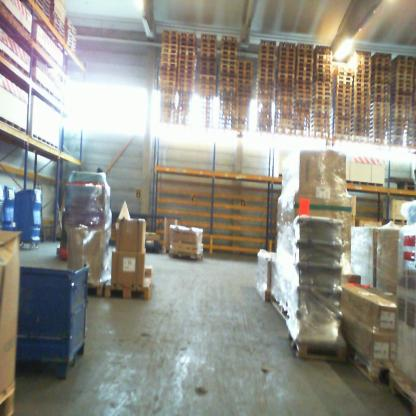pallet: (346, 342, 390, 388), (103, 278, 153, 300), (0, 380, 17, 416), (169, 248, 204, 263), (85, 278, 104, 298), (179, 37, 196, 48), (391, 59, 414, 67), (391, 54, 414, 62), (161, 53, 177, 64), (391, 126, 411, 134), (391, 82, 413, 89), (391, 69, 413, 76), (277, 95, 294, 104), (351, 125, 370, 133), (351, 117, 370, 125), (351, 112, 370, 120), (390, 117, 411, 124), (391, 108, 412, 115), (391, 99, 412, 106), (158, 84, 176, 92), (159, 70, 177, 78), (160, 61, 178, 69), (295, 70, 313, 78), (296, 42, 314, 50), (310, 118, 330, 125), (350, 135, 370, 142), (370, 133, 390, 140), (370, 120, 390, 127), (371, 88, 391, 95), (371, 79, 391, 86), (371, 74, 391, 81), (371, 52, 391, 59), (391, 122, 411, 129), (158, 116, 175, 124), (160, 75, 177, 83), (178, 59, 195, 67), (200, 84, 217, 92), (199, 79, 216, 87), (199, 74, 216, 82), (257, 93, 274, 101), (158, 81, 177, 88), (311, 131, 330, 138), (311, 122, 330, 129), (312, 104, 331, 111), (312, 94, 331, 101), (313, 81, 332, 88), (313, 72, 332, 79), (350, 130, 369, 137), (351, 108, 370, 115), (352, 77, 371, 84), (372, 57, 391, 64), (391, 135, 410, 142), (391, 95, 413, 101), (391, 91, 413, 97), (391, 87, 413, 93), (392, 65, 414, 71), (258, 80, 274, 88), (278, 72, 294, 80), (335, 96, 351, 104), (159, 66, 177, 73), (292, 116, 310, 123), (293, 107, 311, 114), (293, 102, 311, 109), (294, 98, 312, 105), (295, 66, 313, 73), (296, 57, 314, 64), (296, 48, 314, 55), (312, 99, 330, 106), (314, 59, 332, 66), (314, 54, 332, 61), (353, 81, 371, 88), (370, 129, 391, 135), (370, 111, 391, 117), (370, 107, 391, 113), (370, 102, 391, 108), (370, 93, 391, 99), (371, 70, 392, 76), (391, 113, 412, 119), (391, 104, 412, 110), (392, 78, 413, 84), (392, 74, 413, 80), (221, 76, 236, 84), (310, 127, 330, 133), (312, 90, 332, 96), (313, 77, 333, 83), (337, 83, 352, 91), (370, 138, 390, 144), (370, 125, 390, 131), (370, 116, 390, 122), (371, 98, 391, 104), (371, 84, 391, 90), (371, 66, 391, 72), (177, 82, 194, 89), (177, 78, 194, 85), (177, 72, 194, 79), (199, 70, 216, 77), (200, 42, 217, 49), (259, 58, 276, 65), (276, 118, 293, 125), (276, 104, 293, 111), (277, 91, 294, 98), (293, 121, 310, 128), (296, 61, 313, 68), (314, 45, 331, 52), (334, 133, 351, 140), (355, 68, 372, 75), (354, 50, 371, 57), (294, 89, 313, 95), (294, 84, 313, 90), (311, 113, 330, 119), (311, 109, 330, 115), (351, 122, 370, 128), (351, 104, 370, 110), (351, 99, 370, 105), (352, 95, 371, 101), (352, 91, 371, 97), (352, 86, 371, 92), (391, 132, 410, 138), (159, 112, 175, 119), (160, 108, 176, 115), (161, 102, 175, 110), (178, 68, 194, 75), (179, 54, 195, 61), (179, 50, 195, 57), (179, 46, 195, 53), (236, 92, 252, 99), (237, 69, 253, 76), (237, 60, 253, 67), (257, 98, 273, 105), (259, 76, 275, 83), (259, 72, 275, 79), (277, 100, 293, 107), (278, 87, 294, 94), (278, 82, 294, 89), (278, 77, 294, 84), (279, 60, 295, 67), (280, 46, 296, 53), (294, 125, 310, 132), (335, 119, 351, 126), (335, 101, 351, 108), (336, 92, 352, 99), (336, 88, 352, 95), (293, 112, 311, 118), (294, 94, 312, 100), (295, 75, 313, 81), (296, 53, 314, 59), (313, 86, 331, 92), (313, 68, 331, 74), (313, 63, 331, 69), (353, 73, 371, 79), (354, 64, 372, 70), (354, 55, 372, 61), (391, 140, 409, 146), (160, 94, 175, 101), (178, 91, 193, 98), (220, 86, 235, 93), (222, 50, 237, 57), (222, 45, 237, 52), (257, 112, 272, 119), (336, 106, 351, 113), (337, 79, 352, 86), (162, 39, 179, 45), (177, 87, 194, 93), (199, 89, 216, 95), (199, 66, 216, 72), (200, 47, 217, 53), (200, 38, 217, 44), (200, 33, 217, 39), (258, 90, 275, 96), (259, 54, 276, 60), (276, 123, 293, 129), (276, 113, 293, 119), (276, 109, 293, 115), (278, 69, 295, 75), (278, 64, 295, 70), (279, 51, 296, 57), (279, 42, 296, 48), (371, 62, 391, 67), (162, 48, 178, 54), (162, 44, 178, 50), (163, 35, 179, 41), (178, 64, 194, 70), (180, 33, 196, 39), (200, 61, 216, 67), (200, 56, 216, 62), (201, 52, 217, 58), (219, 109, 235, 115), (236, 83, 252, 89), (237, 79, 253, 85), (237, 74, 253, 80), (237, 65, 253, 71), (257, 103, 273, 109), (258, 86, 274, 92), (259, 67, 275, 73), (259, 49, 275, 55), (279, 56, 295, 62), (335, 115, 351, 121), (335, 111, 351, 117), (337, 75, 353, 81), (337, 71, 353, 77), (294, 80, 313, 85), (163, 30, 178, 36), (219, 104, 234, 110), (219, 99, 234, 105), (219, 91, 234, 97), (220, 82, 235, 88), (221, 72, 236, 78), (221, 59, 236, 65), (222, 40, 237, 46), (222, 35, 237, 41), (237, 87, 252, 93), (257, 107, 272, 113), (261, 40, 276, 46), (314, 50, 332, 55), (335, 129, 350, 135), (335, 124, 350, 130), (338, 66, 353, 72), (354, 60, 372, 65), (159, 90, 176, 95), (259, 45, 276, 50), (161, 99, 175, 105), (220, 95, 234, 101), (222, 55, 236, 61), (259, 63, 275, 68), (221, 68, 236, 73), (221, 64, 236, 69)
